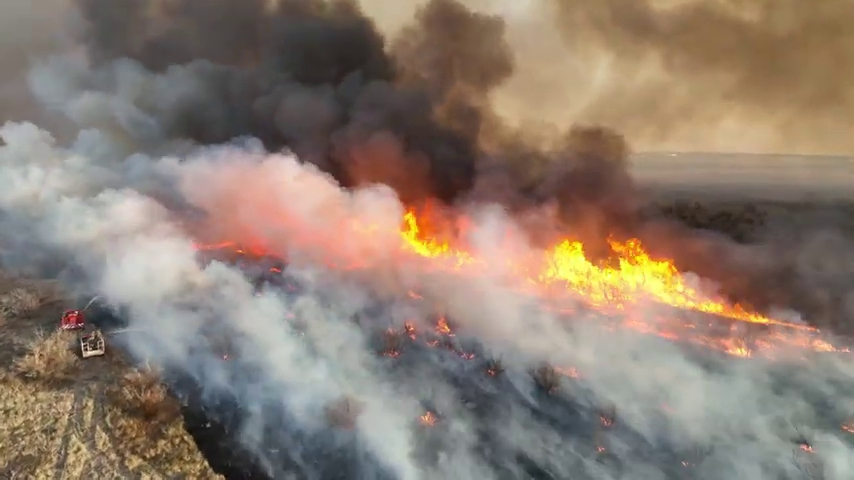forest_fire: (506, 239, 817, 331), (400, 210, 488, 274), (436, 312, 453, 334)
